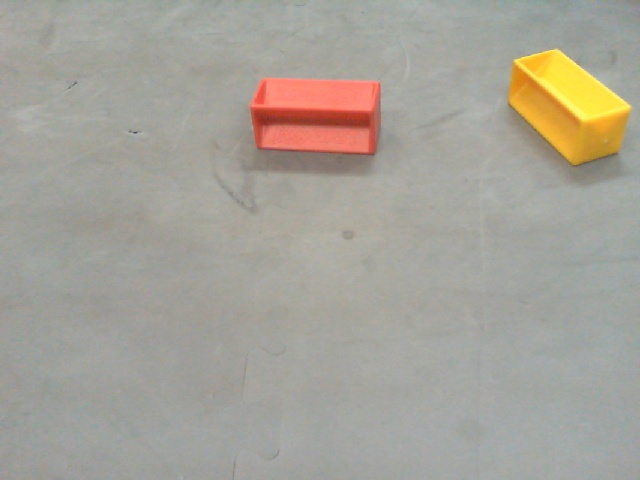RedSample: (247, 72, 383, 161)
YellowSample: (508, 47, 630, 168)
